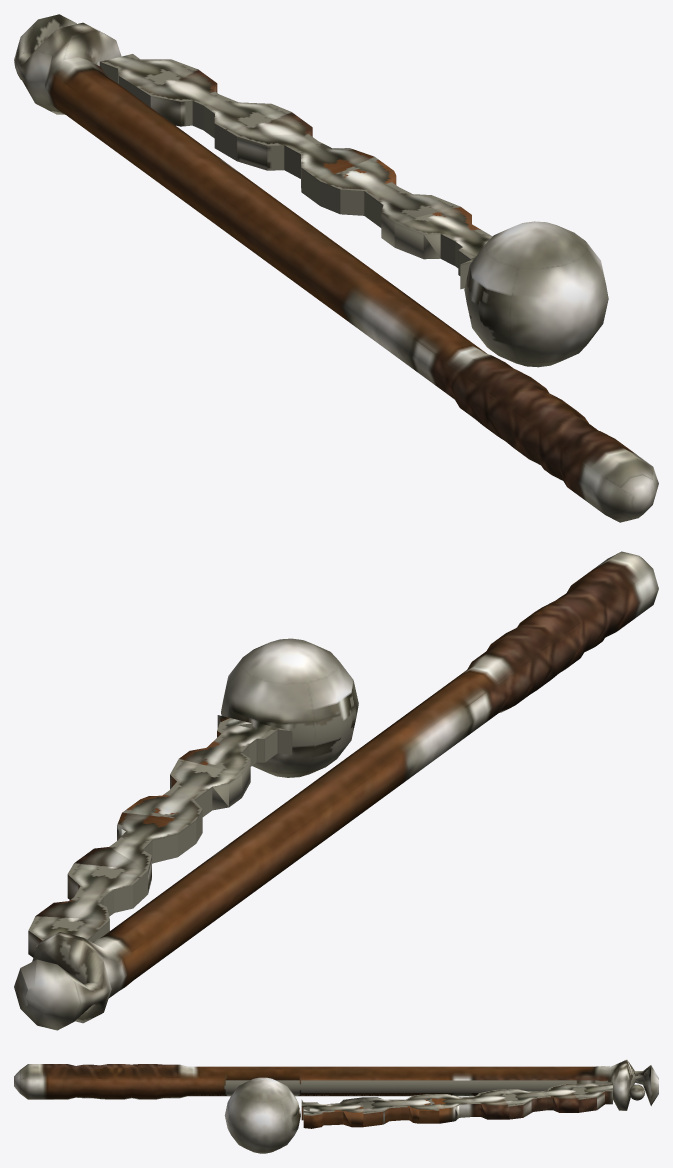
Rendered from item_mm9_10195.glb.
The picture shows the model from 3 angles, top to bottom: view 1: azimuth 30°, elevation 25°; view 2: azimuth 150°, elevation 25°; view 3: azimuth 270°, elevation 25°; orthographic projection. The views are drawn at different scales.
Visible parts, largest first — view 1: d10195; view 2: d10195; view 3: d10195.
Part boxes in pixels (x1,y1,x2,y2): d10195: [14, 14, 658, 522]; d10195: [14, 551, 658, 1030]; d10195: [14, 1059, 658, 1153].
Size of the model in its own units: 30.48 by 17.27 by 146.
1 material, 1 textured.
